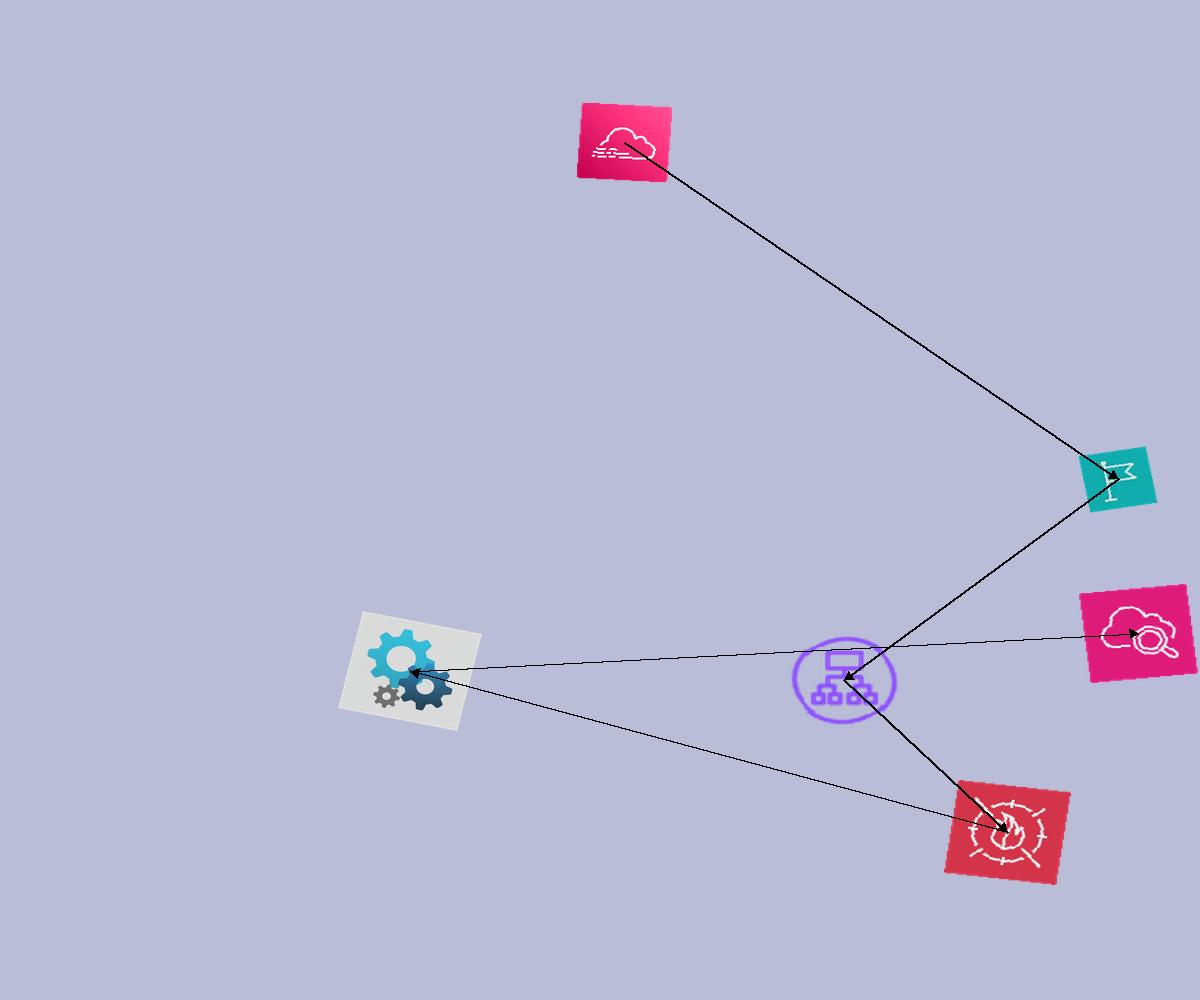AWS-CloudTrail: (576, 102, 673, 183)
AWS-CloudWatch: (1078, 583, 1199, 684)
AWS-Region: (1078, 446, 1158, 513)
AWS-Res_Elastic-Load-Balancing_Application-Load-Balancer: (785, 631, 904, 730)
AWS-WAF: (944, 780, 1071, 885)
Azure_api: (338, 611, 482, 731)
